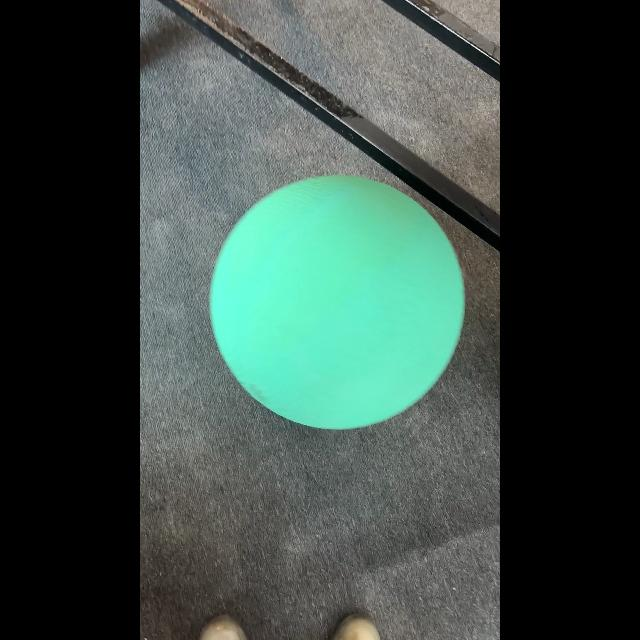ALGAE: (208, 174, 466, 430)
